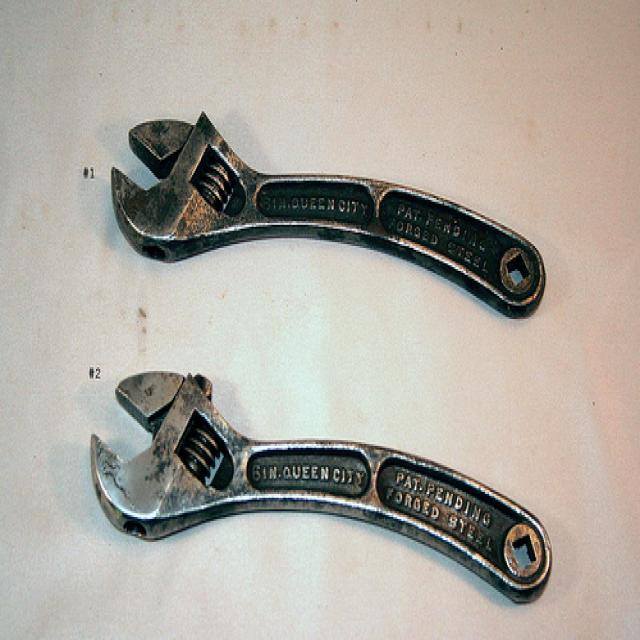wrench: (59, 323, 640, 640), (98, 73, 592, 320)
